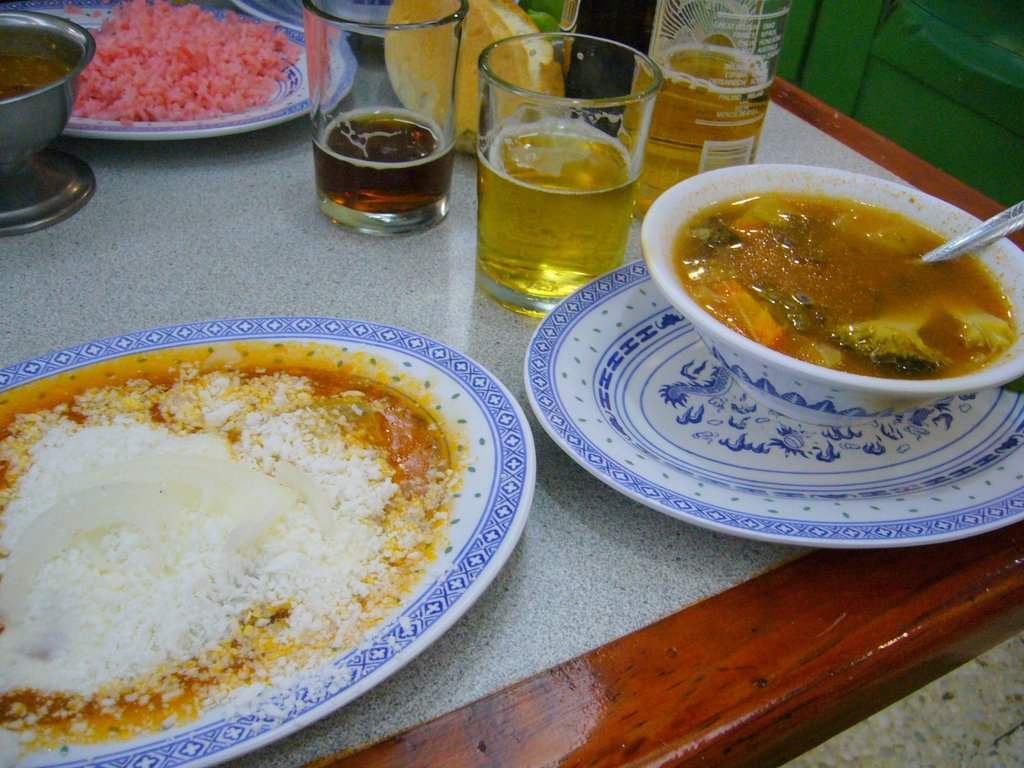Beer: (472, 25, 661, 325), (300, 0, 470, 246), (638, 0, 803, 225)
